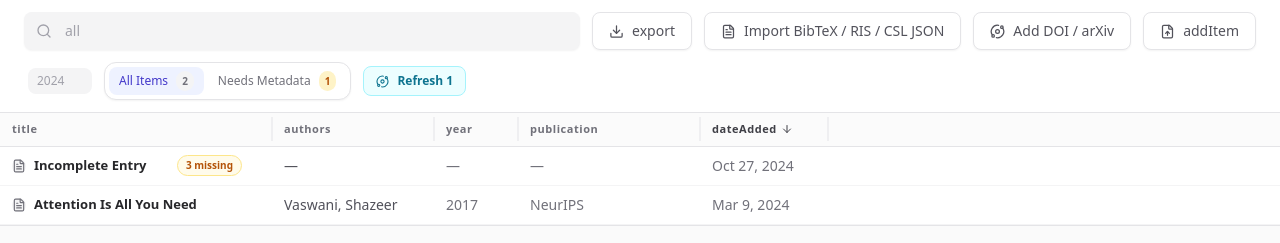
LibraryView › filters the list down to items that need metadata review
The image size is (1280, 243).
Expected: the text "3 missing" is shown, [177,155,242,176]
Click the button "Needs Metadata 1": (277, 81) [208,67,346,95]
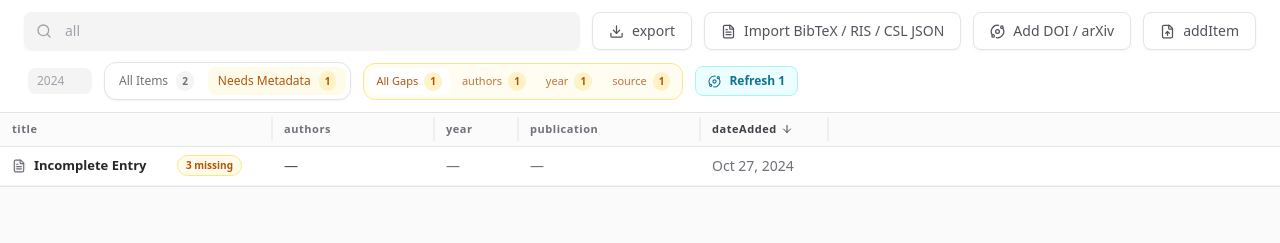
Expected: the heading "Incomplete Entry" is shown, [34,156,146,174]
Expected: the heading "Attention Is All You Need" is gone
